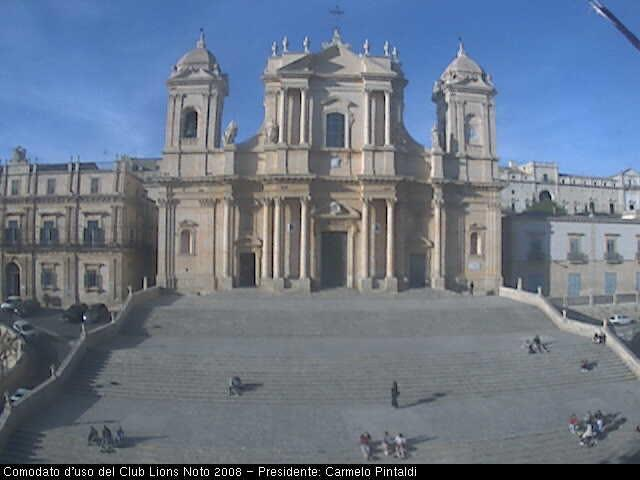person: (358, 432, 374, 461), (395, 433, 411, 461), (226, 373, 242, 399), (582, 424, 595, 449), (389, 380, 400, 409), (382, 431, 394, 457), (88, 424, 100, 448), (568, 411, 579, 436), (99, 436, 114, 453), (117, 427, 127, 449), (533, 334, 544, 354), (102, 425, 113, 444), (595, 419, 606, 437), (579, 359, 589, 378), (583, 411, 593, 428), (594, 410, 603, 426), (599, 331, 607, 345), (469, 280, 475, 298), (592, 332, 600, 344), (526, 339, 533, 352)
